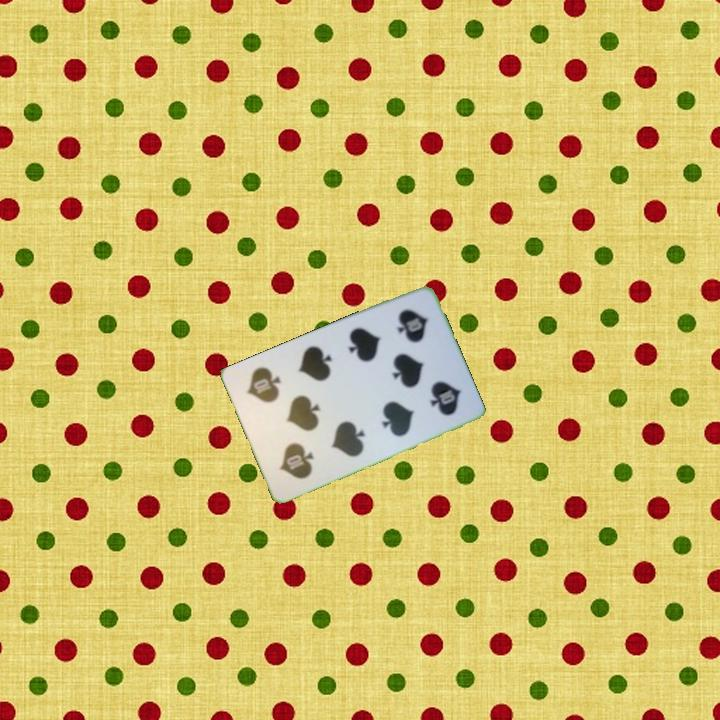s_10.png: (373, 294, 451, 377), (255, 410, 333, 493)
